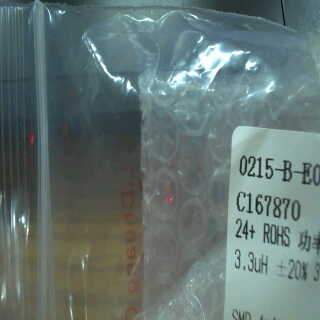3.3uH: (233, 242, 273, 287)
